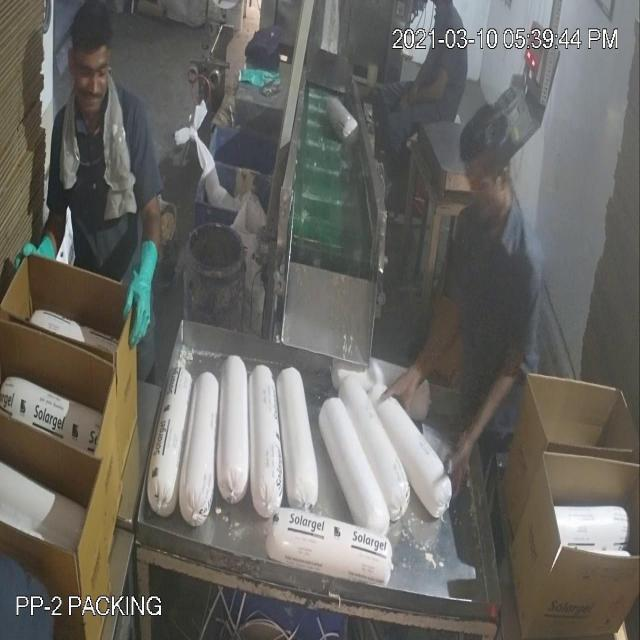Gloves: (43, 127, 488, 422)
